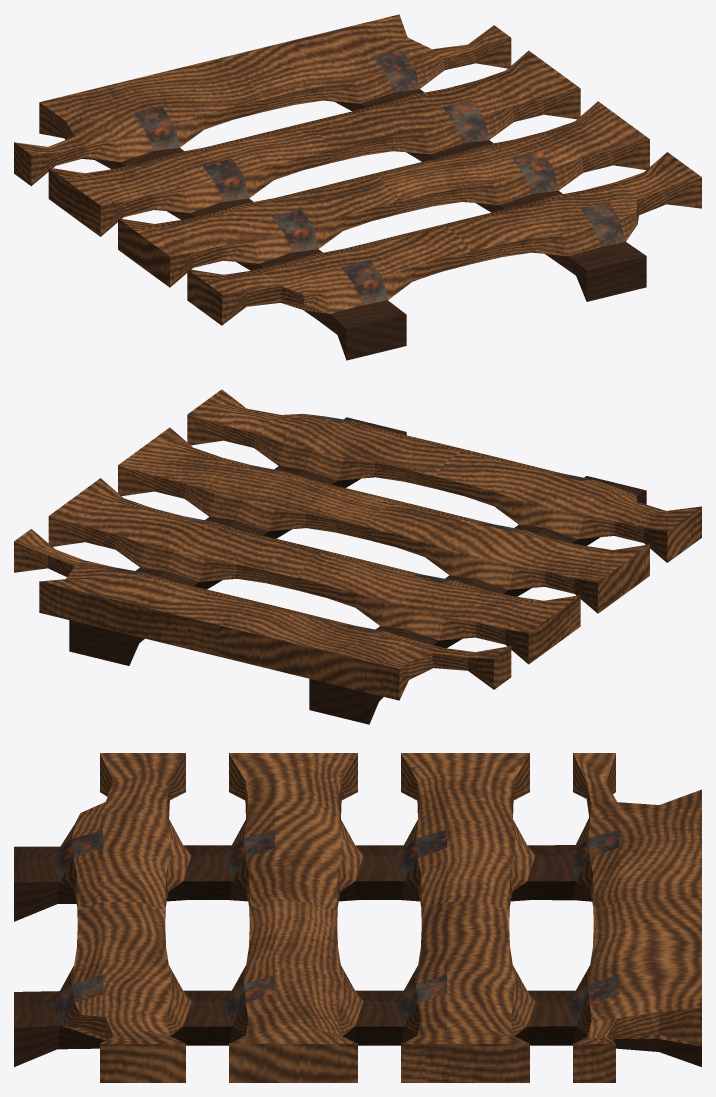
The model's file is platform_deck.glb.
The picture shows the model from 3 angles, top to bottom: view 1: azimuth 30°, elevation 25°; view 2: azimuth 150°, elevation 25°; view 3: azimuth 270°, elevation 25°; orthographic projection. The views are drawn at different scales.
Visible parts, largest first — view 1: crypt_platform_deck; view 2: crypt_platform_deck; view 3: crypt_platform_deck.
Boxes of the visible parts, bbox=[...] form: crypt_platform_deck: bbox=[14, 14, 701, 360]; crypt_platform_deck: bbox=[14, 389, 701, 724]; crypt_platform_deck: bbox=[14, 753, 701, 1082].
Bounding box in the file's own units: 1 × 0.125 × 1.
Materials: 1 (1 with a texture image).
